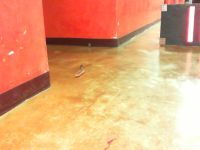switch: (187, 4, 196, 43)
